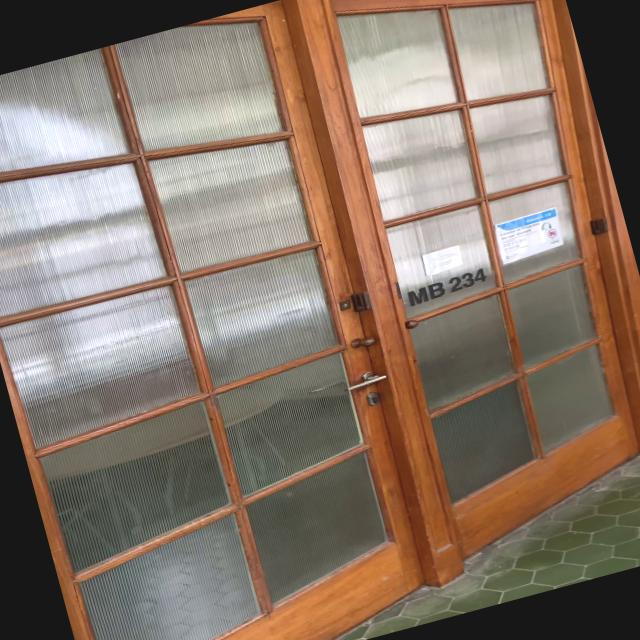room234Window: (399, 262, 495, 312)
